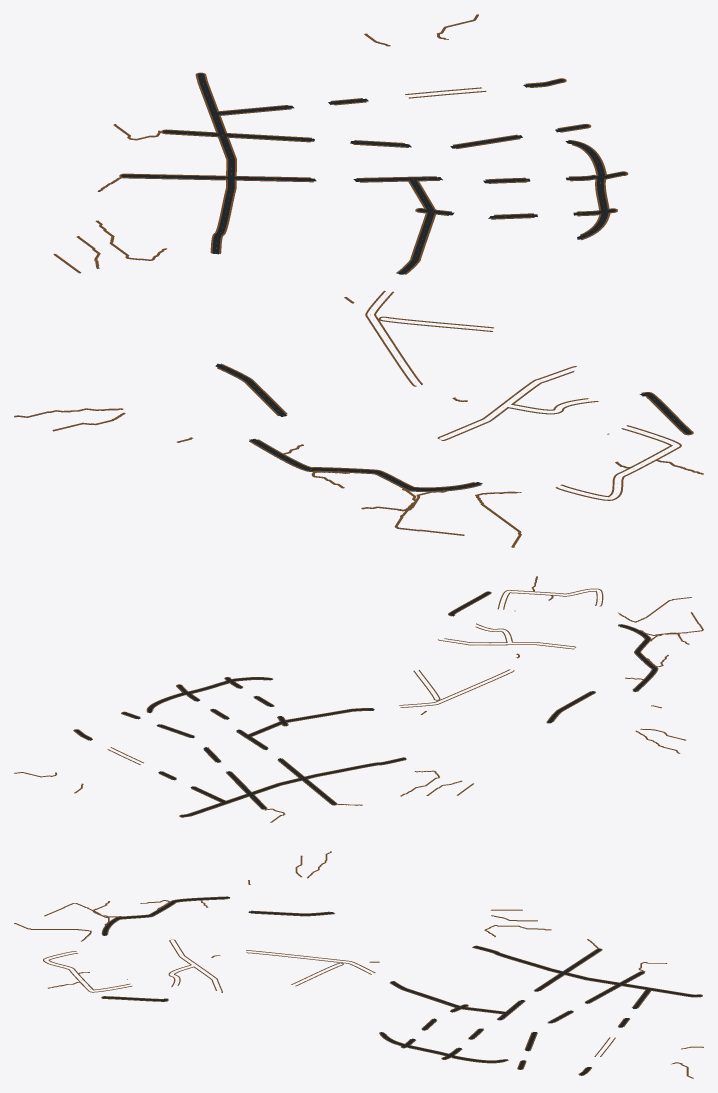
File: SM_Bogota_CallesSecundarias.fbx
3 renders of one model, top to bottom at view 1: azimuth 30°, elevation 25°; view 2: azimuth 150°, elevation 25°; view 3: azimuth 270°, elevation 25°, orthographic. The views are drawn at different scales.
Visible parts, largest first — view 1: SM_Bogota_CallesSecundarias; view 2: SM_Bogota_CallesSecundarias; view 3: SM_Bogota_CallesSecundarias.
Part boxes in pixels (left/top/right/bottom): SM_Bogota_CallesSecundarias: left=14, top=14, right=703, bottom=547; SM_Bogota_CallesSecundarias: left=14, top=576, right=703, bottom=822; SM_Bogota_CallesSecundarias: left=14, top=851, right=703, bottom=1078.
Size of the model in its own units: 625 by 802 by 3.38.
